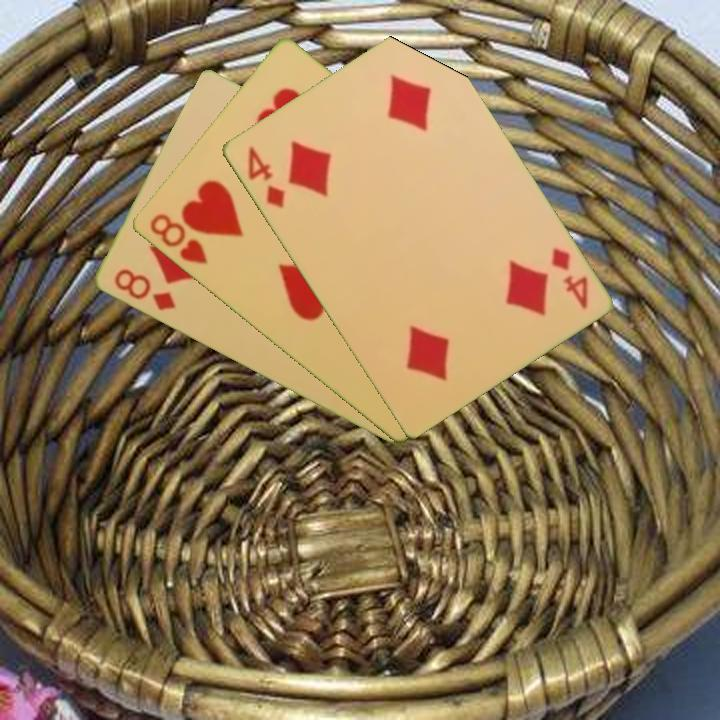4d: (243, 142, 287, 212), (546, 244, 591, 312)
8d: (109, 265, 178, 314)
8h: (145, 209, 211, 268)
